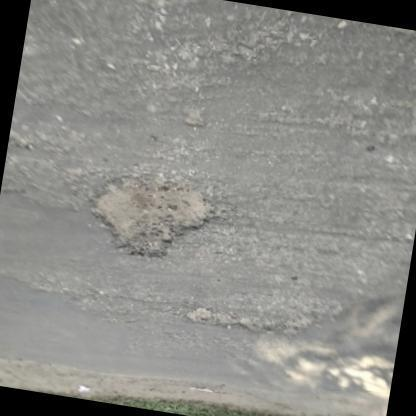pothole: (91, 172, 216, 258)
